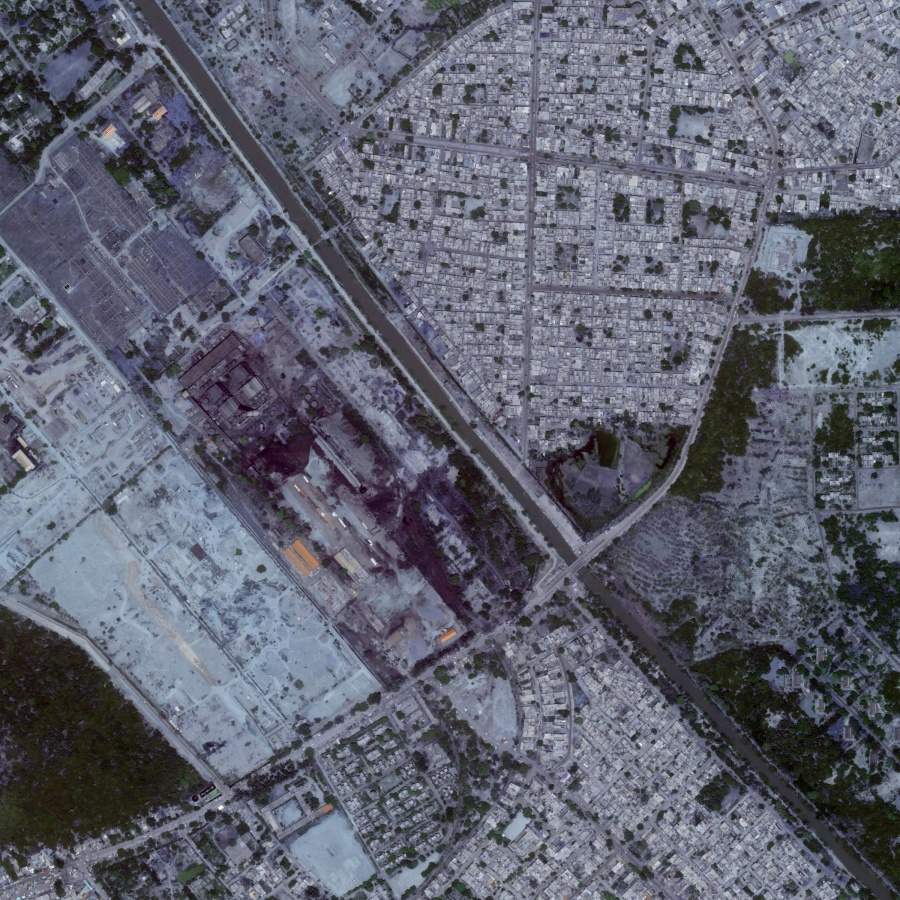PowerPlant: (179, 326, 478, 649)
